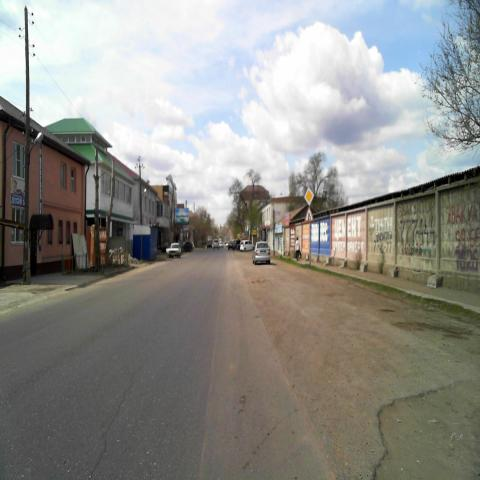1_20_2: (304, 206, 314, 221)
2_1: (304, 187, 314, 205)
